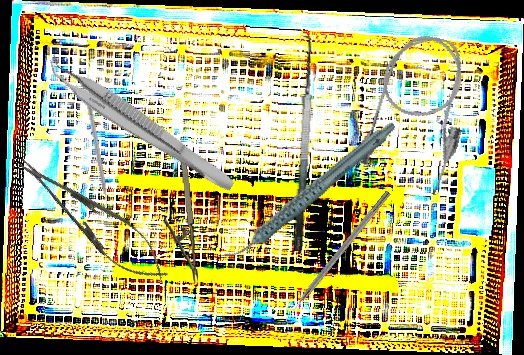Cannula: (353, 25, 485, 198)
Chopper: (79, 96, 111, 213)
Handpiece: (203, 119, 416, 262)
Hook Surgical: (280, 189, 392, 324)
Needle Holder: (5, 143, 180, 295), (159, 154, 199, 284)
Spatula Surgical: (274, 34, 323, 252)
Tissue Forceps: (39, 51, 244, 195)
